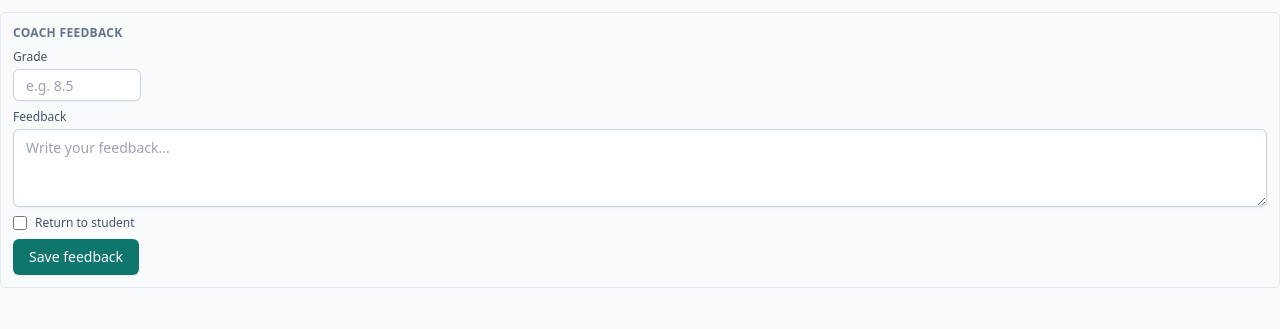
Scenario: FeedbackPanel — coach mode › shows error message when PUT fails
The image size is (1280, 329).
Click the button "Save feedback" at (76, 257), box left=13, top=239, right=139, bottom=275
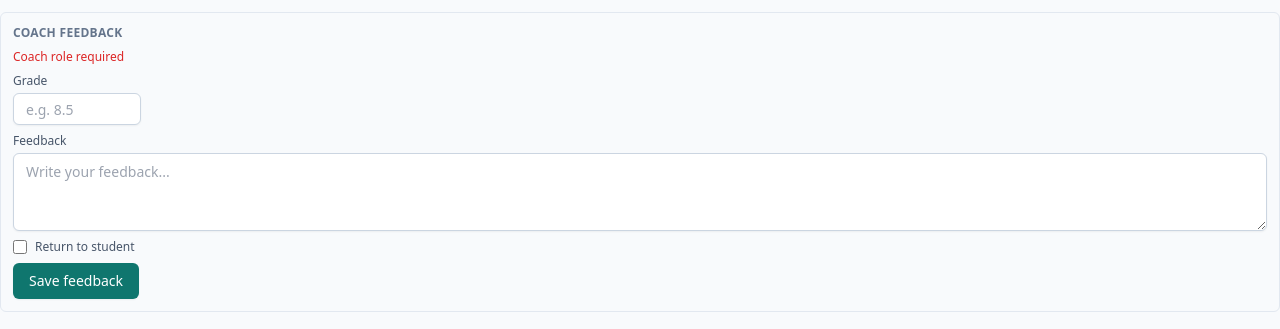
expect the message reads "Coach role required": met, box left=13, top=48, right=124, bottom=65
